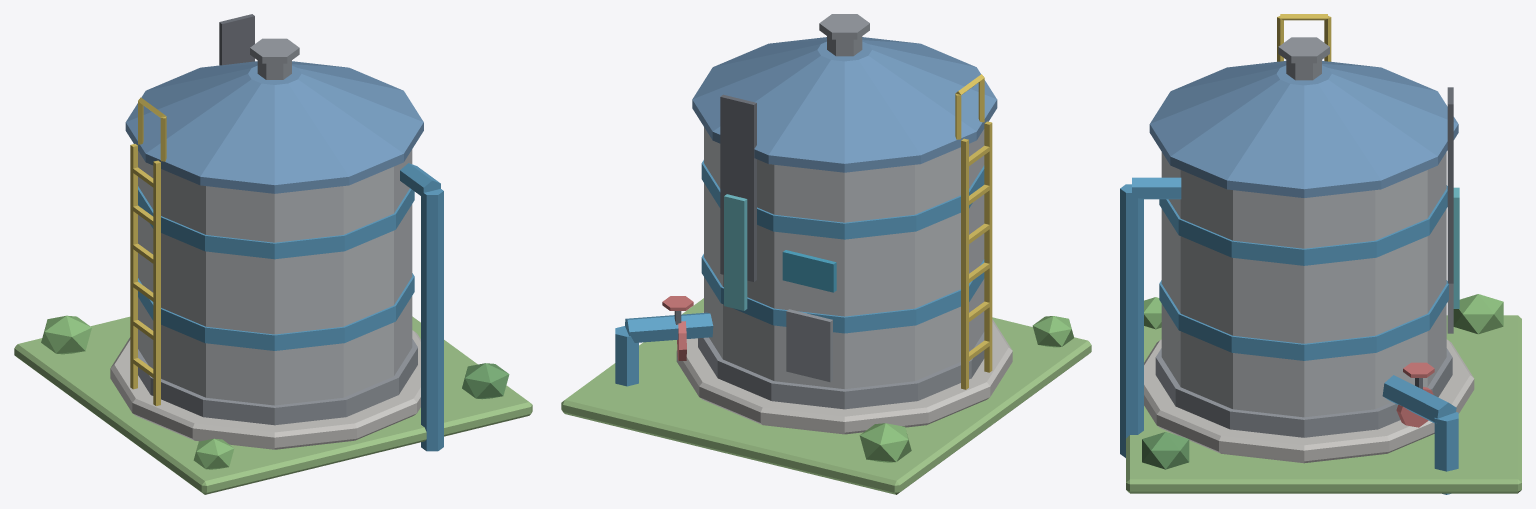
File: agua__reservatorio.glb
The picture shows the model from 3 angles, left to right: view 1: azimuth 30°, elevation 25°; view 2: azimuth 150°, elevation 25°; view 3: azimuth 270°, elevation 25°; orthographic projection. The views are drawn at different scales.
Visible parts, largest first — view 1: agua__reservatorio; view 2: agua__reservatorio; view 3: agua__reservatorio.
Boxes of the visible parts, <box> form: agua__reservatorio: <box>14,14,532,494</box>; agua__reservatorio: <box>561,14,1091,494</box>; agua__reservatorio: <box>1120,14,1521,494</box>.
Bounding box in the file's own units: 2 × 2.06 × 2.03.
